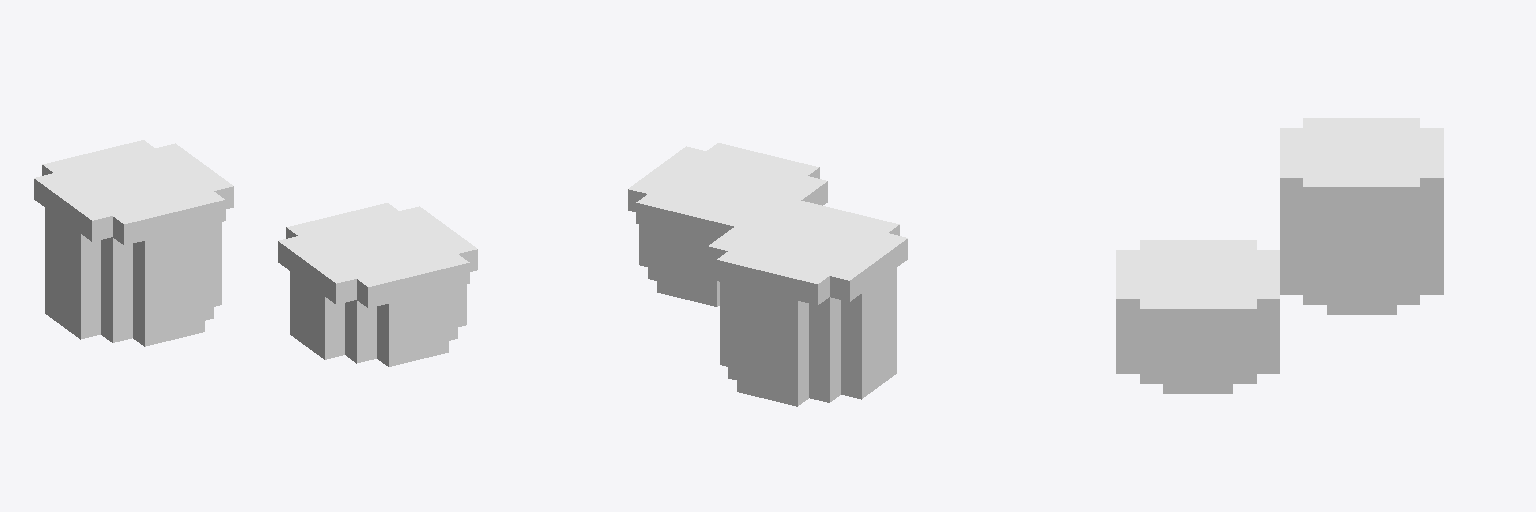
Rendered from Crema.obj.
3 views of the same model, side by side, from view 1: azimuth 30°, elevation 25°; view 2: azimuth 150°, elevation 25°; view 3: azimuth 270°, elevation 25° (orthographic).
Parts seen in each view (by area): view 1: object 1; view 2: object 1; view 3: object 1.
Part boxes in pixels (bbox=[...]): object 1: bbox=[34, 140, 477, 366]; object 1: bbox=[628, 143, 907, 406]; object 1: bbox=[1116, 118, 1443, 393].
Size of the model in its own units: 1.5 by 0.6 by 1.4.